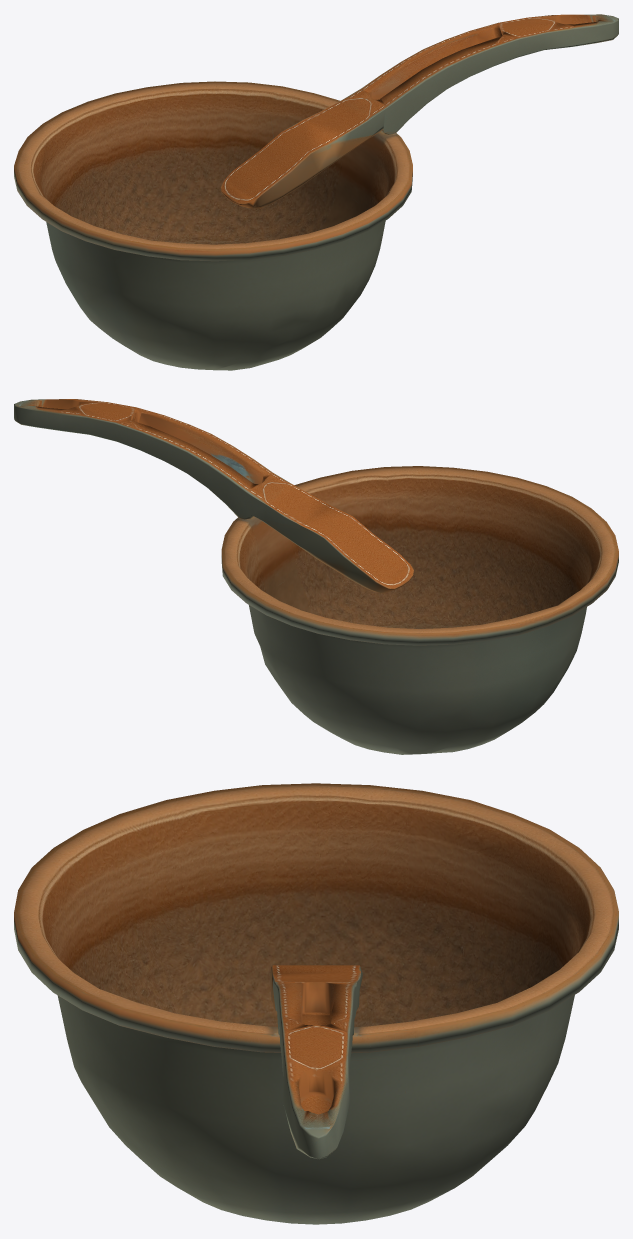
Rendered from feed_scoop.glb.
3 views of the same model, one above another, from view 1: azimuth 30°, elevation 25°; view 2: azimuth 150°, elevation 25°; view 3: azimuth 270°, elevation 25° (orthographic). The views are drawn at different scales.
Visible parts, largest first — view 1: feed_scoop; view 2: feed_scoop; view 3: feed_scoop.
Part boxes in pixels (box(x1,y1,x2,y2)): feed_scoop: box(14, 14, 618, 370); feed_scoop: box(14, 399, 618, 754); feed_scoop: box(14, 783, 618, 1224).
Size of the model in its own units: 0.4234 by 0.16 by 0.2524.
Materials: 1 (1 with a texture image).
